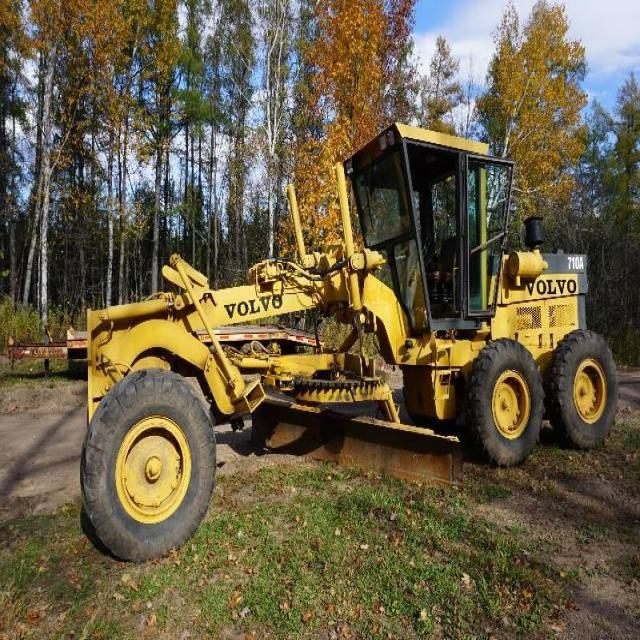Grader: (77, 102, 612, 560)
